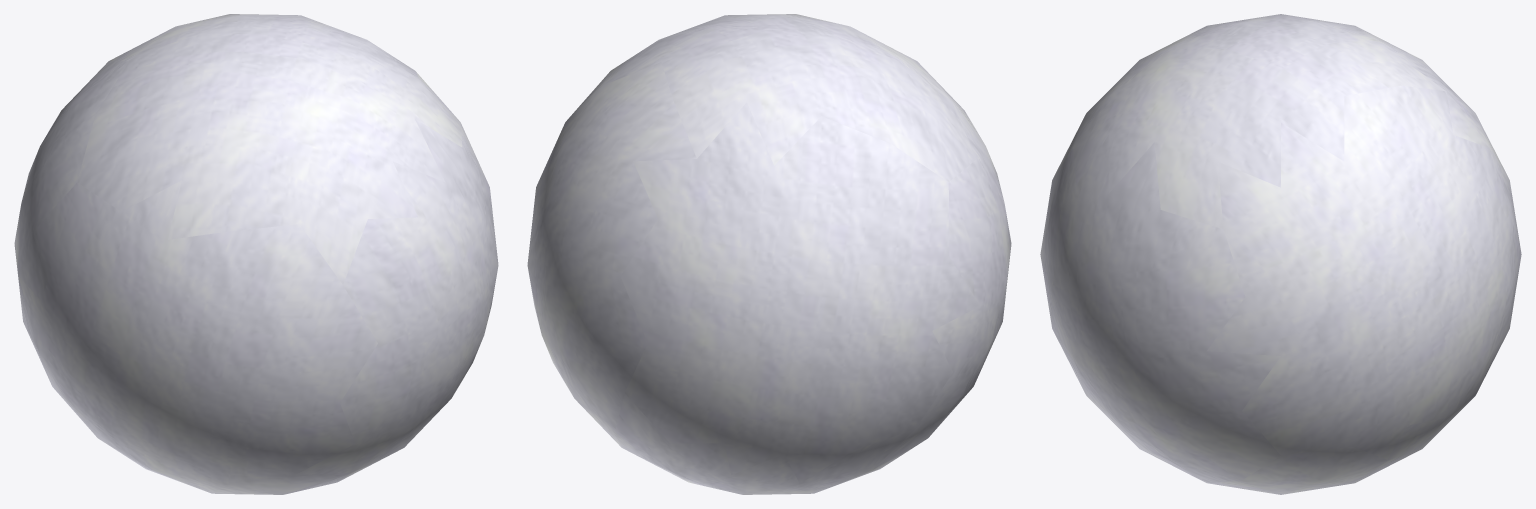
File: snowball.glb
3 renders of one model, left to right at view 1: azimuth 30°, elevation 25°; view 2: azimuth 150°, elevation 25°; view 3: azimuth 270°, elevation 25°, orthographic.
Visible parts, largest first — view 1: Snowball; view 2: Snowball; view 3: Snowball.
Part boxes in pixels (x1,y1,x2,y2): Snowball: [14, 14, 498, 494]; Snowball: [527, 14, 1011, 494]; Snowball: [1040, 14, 1521, 494].
Size of the model in its own units: 1 by 1 by 1.
1 material, 1 textured.
